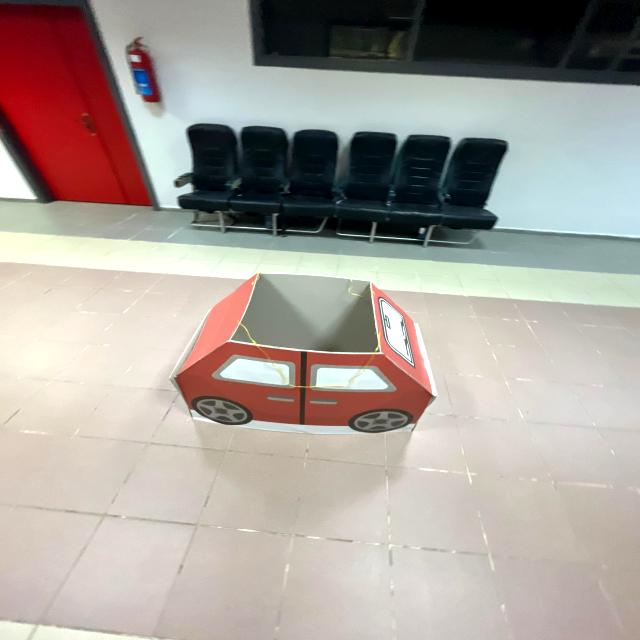red_car: (149, 256, 468, 463)
